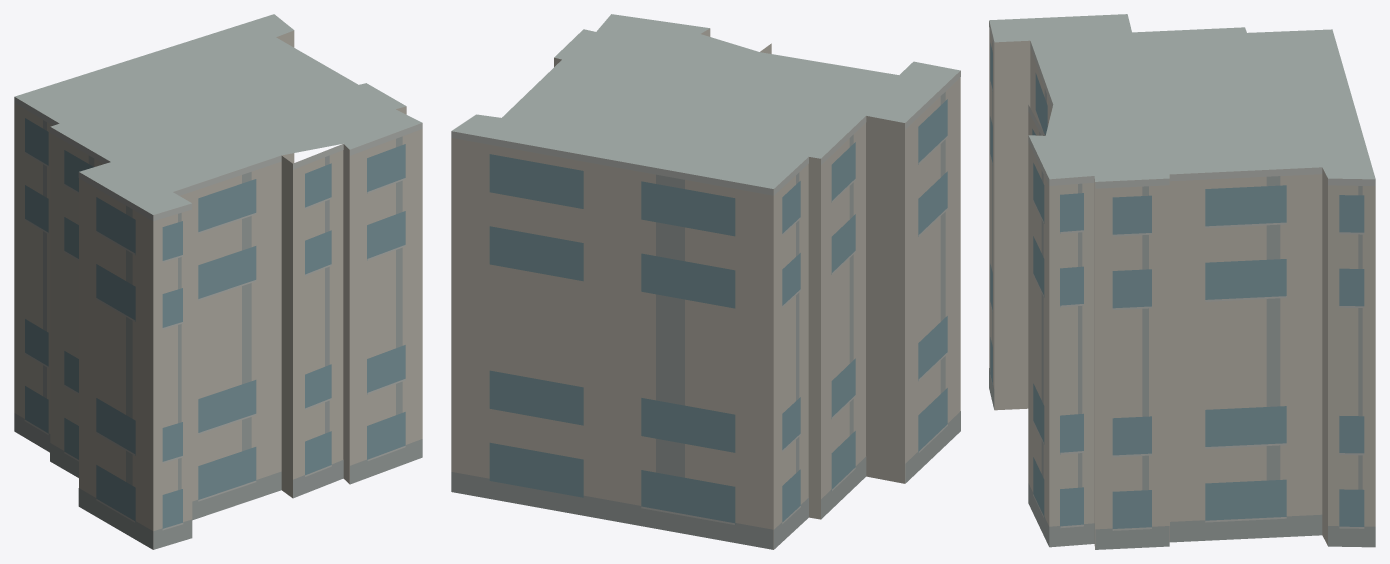
File: survey-upis-32631400.glb
3 renders of one model, left to right at view 1: azimuth 30°, elevation 25°; view 2: azimuth 150°, elevation 25°; view 3: azimuth 270°, elevation 25°, orthographic. The views are drawn at different scales.
Parts seen in each view (by area): view 1: survey-upis-32631400.tmp; view 2: survey-upis-32631400.tmp; view 3: survey-upis-32631400.tmp.
Boxes of the visible parts, box(x1,y1,x2,y2) form: survey-upis-32631400.tmp: box(14, 14, 422, 549); survey-upis-32631400.tmp: box(451, 14, 960, 549); survey-upis-32631400.tmp: box(989, 14, 1375, 549).
Bounding box in the file's own units: 12.93 × 13.2 × 12.58.
